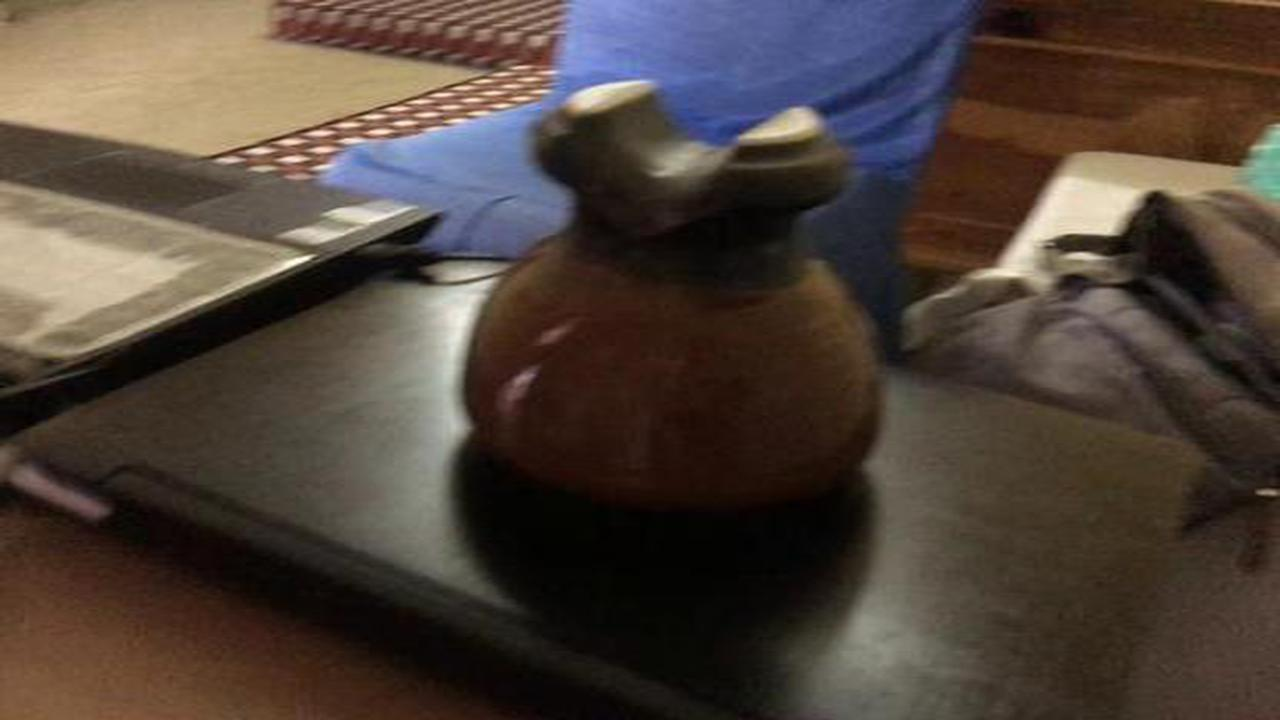insulator_pin: (450, 66, 924, 530)
